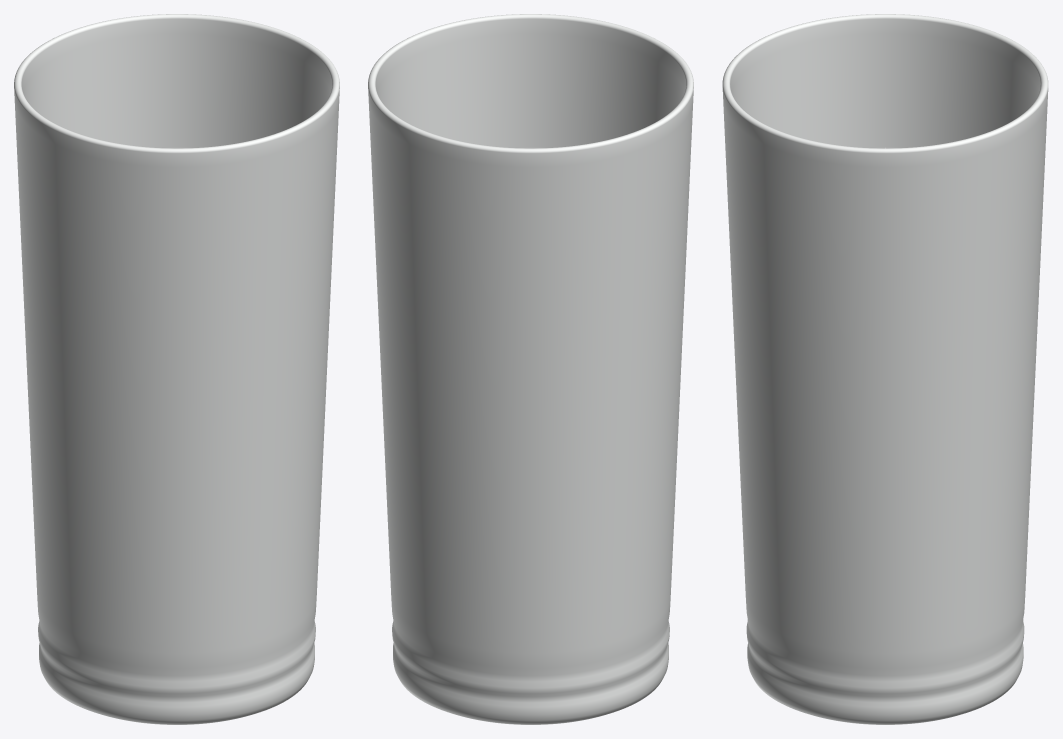
Rendered from vaso_agua.gltf.
3 views of the same model, side by side, from view 1: azimuth 30°, elevation 25°; view 2: azimuth 150°, elevation 25°; view 3: azimuth 270°, elevation 25° (orthographic).
Visible parts, largest first — view 1: vaso; view 2: vaso; view 3: vaso.
Boxes of the visible parts, left/top/right/bottom form: vaso: left=14, top=14, right=339, bottom=724; vaso: left=368, top=14, right=693, bottom=724; vaso: left=722, top=14, right=1048, bottom=724.
Size of the model in its own units: 0.076 by 0.1519 by 0.076.
Materials: 2 (2 with a texture image).
